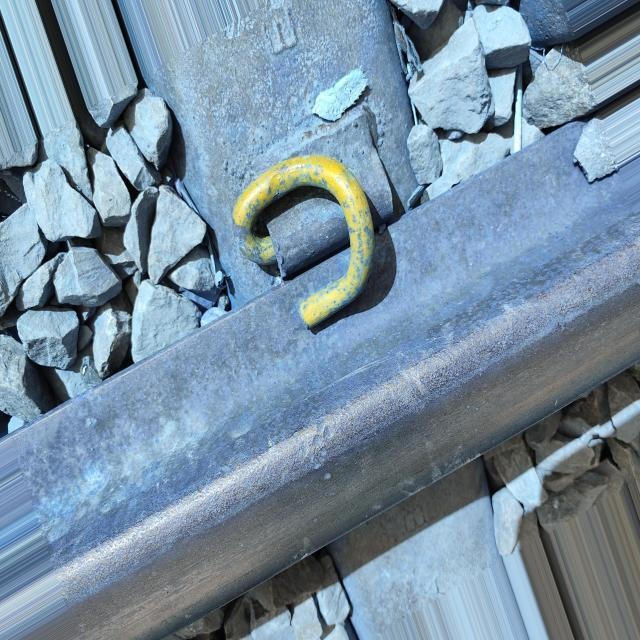Good Fasteners: (216, 115, 420, 342)
